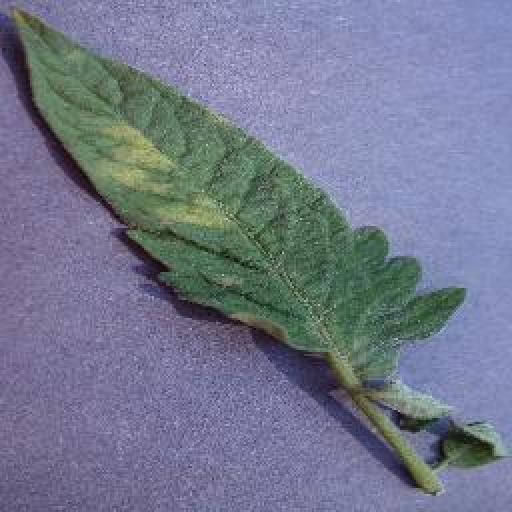Leaf Mold: (7, 4, 470, 377)
